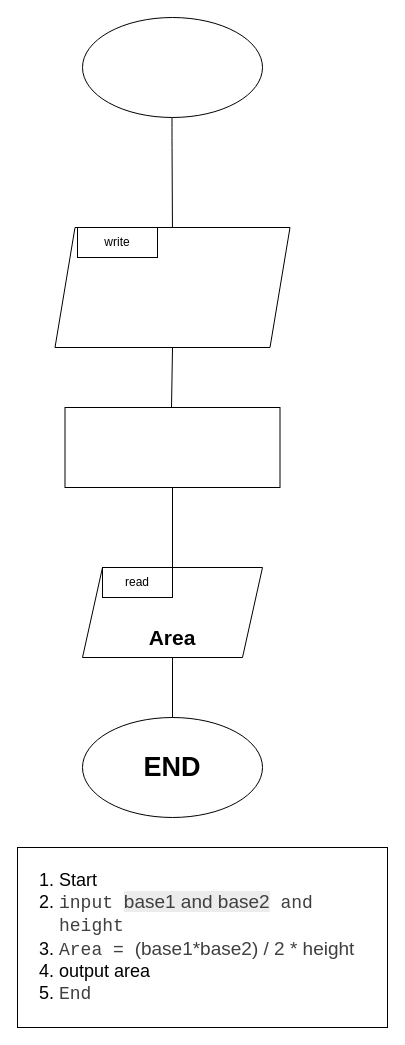
This 405x1045 diagram has some shape labels left out. Here are the shapes that lost their labels. From the top down, the box of each, then its label:
(82, 16, 262, 118): start
(54, 226, 290, 348): base1, base2 and height
(64, 406, 280, 488): Area =(base1*base2)/2 * height
